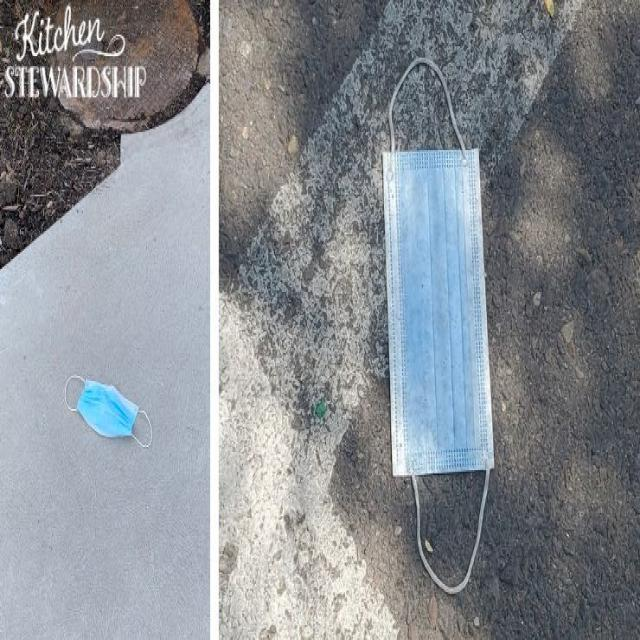non-organic waste: (382, 46, 498, 596), (66, 371, 150, 455)
